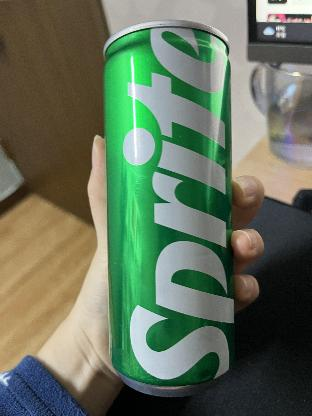Can: (98, 21, 239, 399)
